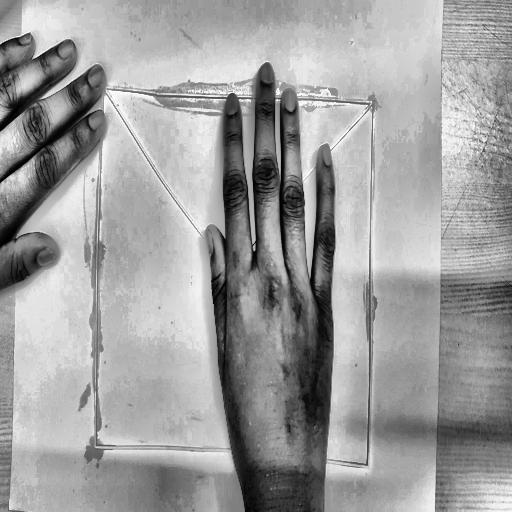envelop: (88, 81, 384, 475)
